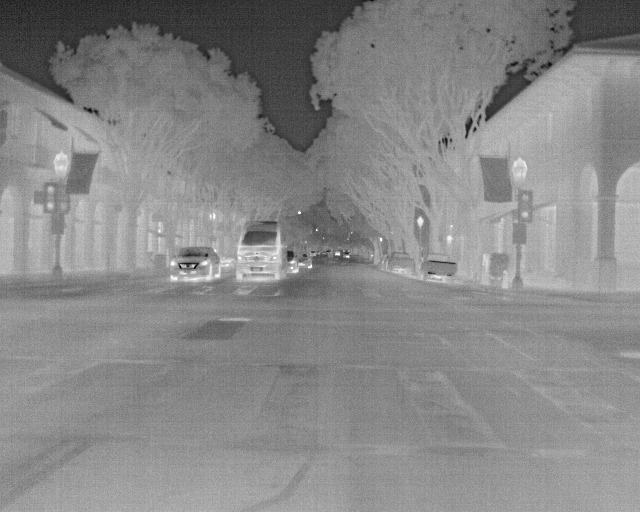car: (234, 220, 289, 283), (169, 248, 223, 282), (415, 251, 458, 285), (386, 250, 415, 273), (212, 249, 233, 275), (297, 248, 317, 271), (287, 251, 299, 278)
